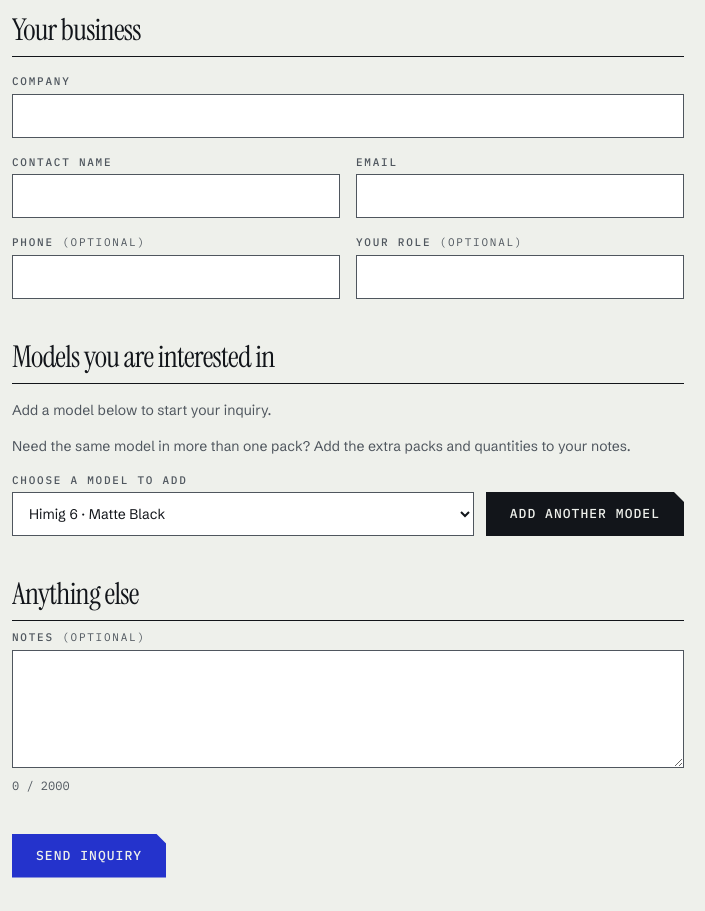
Test: InquiryForm validation › shows field errors and does not submit when nothing is filled in
Click the button "Send inquiry". click: click(89, 856)
box: 12,834 -> 166,878
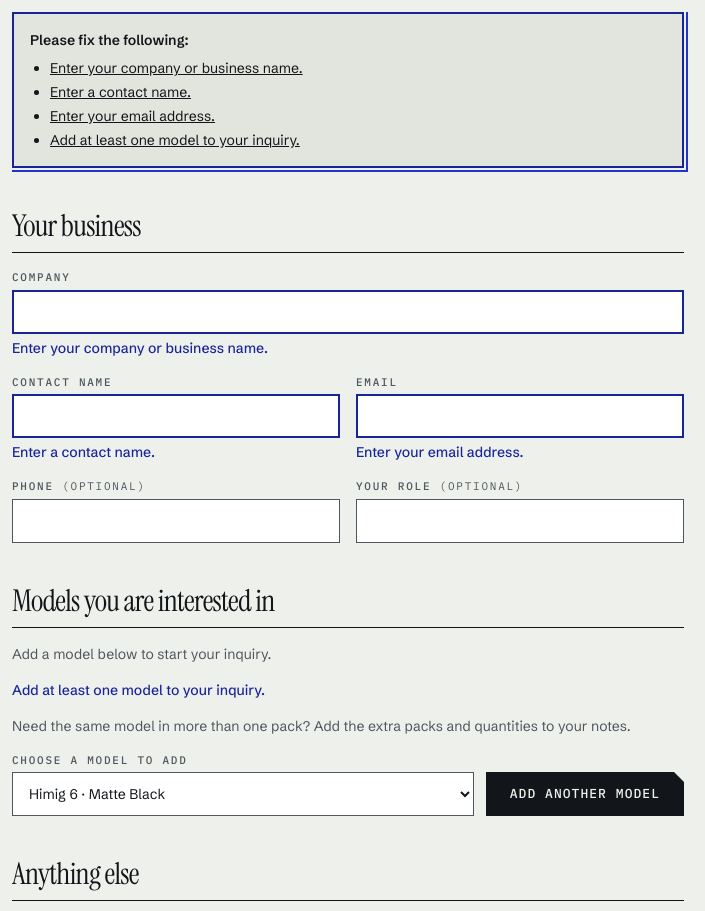
Expected: the message shows "add at least one model", 50,131 -> 300,149
